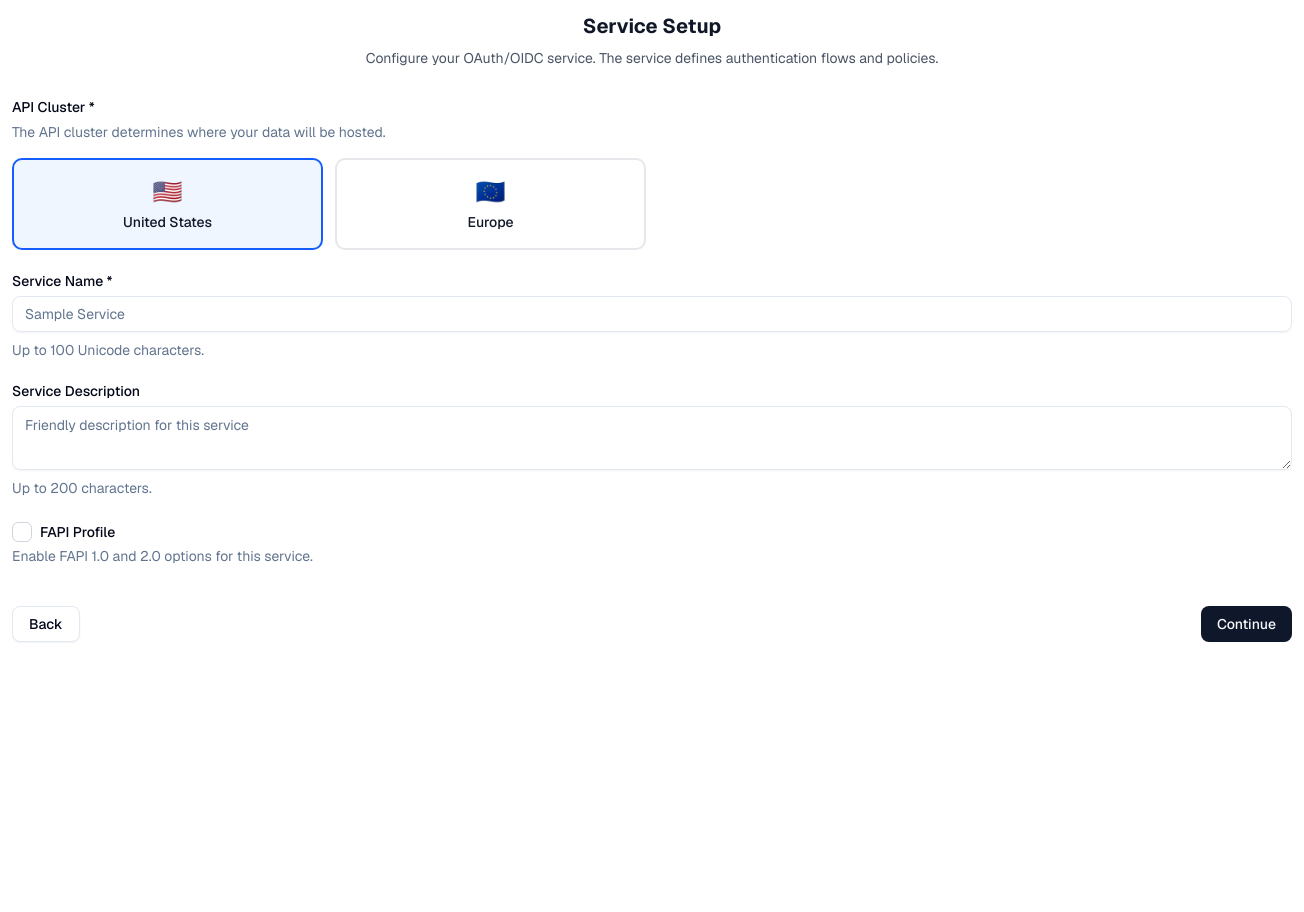
Scenario: ServiceSetupStep › shows validation error if service name is empty
The width and height of the screenshot is (1304, 912).
Click the button "Continue" at {"x": 1246, "y": 624}, box [1201,606,1292,642]
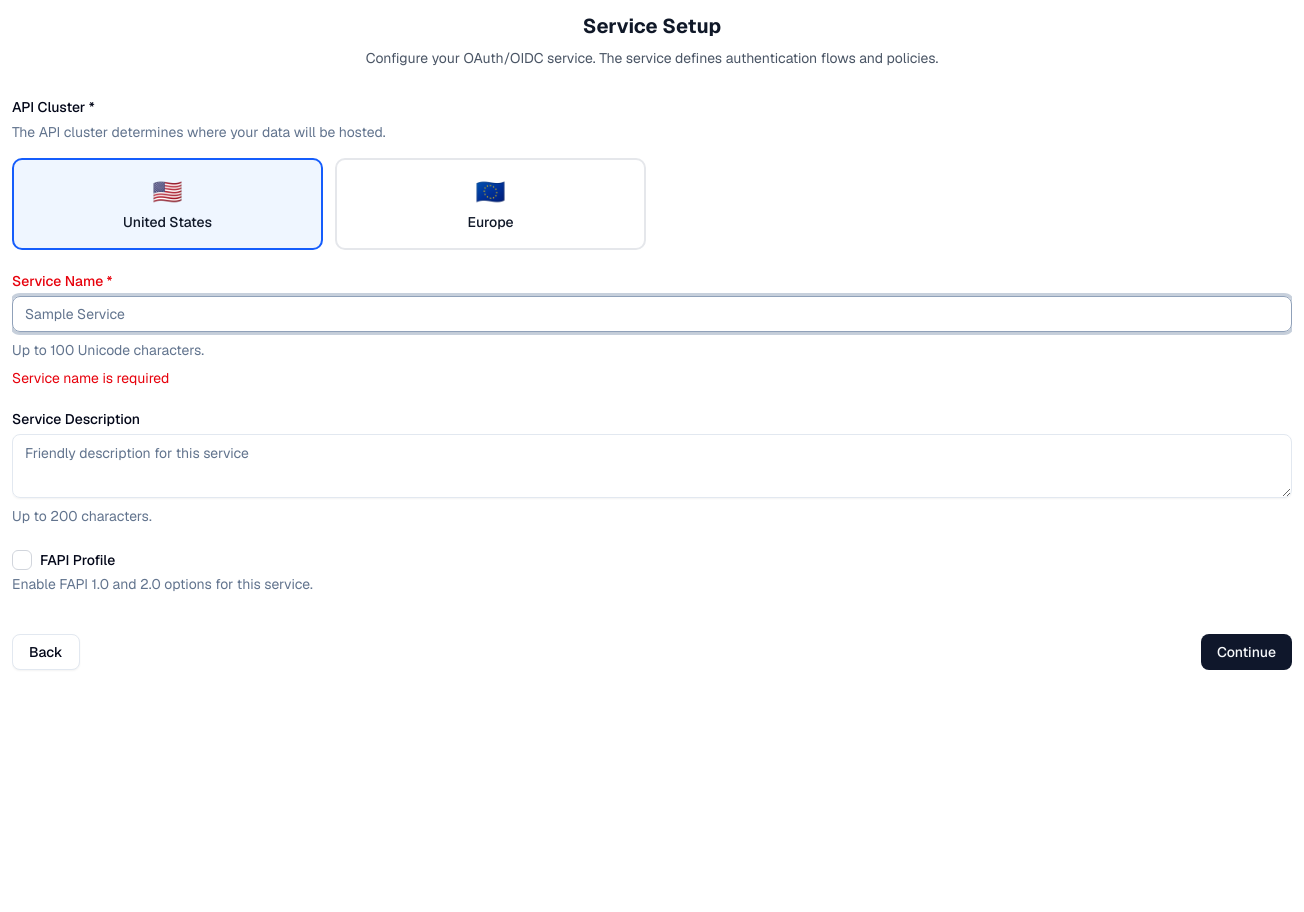
Now the text "Service name is required" is shown, box [12,369,169,387]
